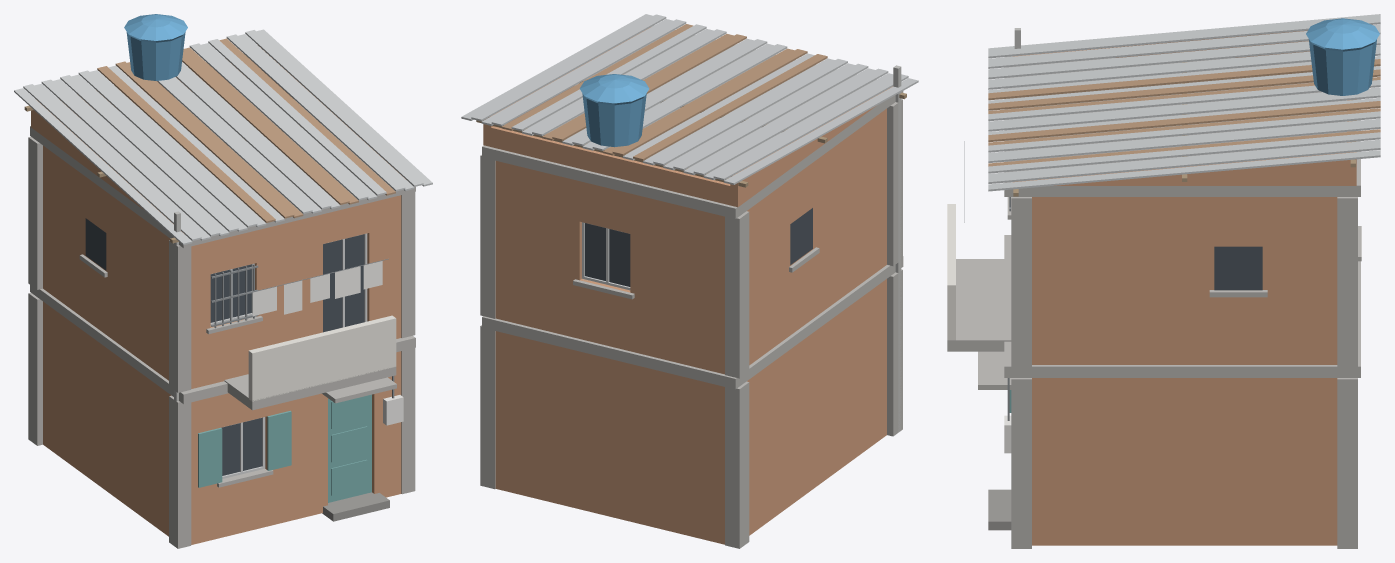
3 renders of one model, left to right at view 1: azimuth 30°, elevation 25°; view 2: azimuth 150°, elevation 25°; view 3: azimuth 270°, elevation 25°, orthographic. The views are drawn at different scales.
Parts seen in each view (by area): view 1: fv_h10; view 2: fv_h10; view 3: fv_h10.
Part boxes in pixels (x1,y1,x2,y2): fv_h10: (14, 14, 432, 548); fv_h10: (461, 14, 918, 548); fv_h10: (947, 14, 1380, 548).
Size of the model in its own units: 4.86 by 7.37 by 6.3.
